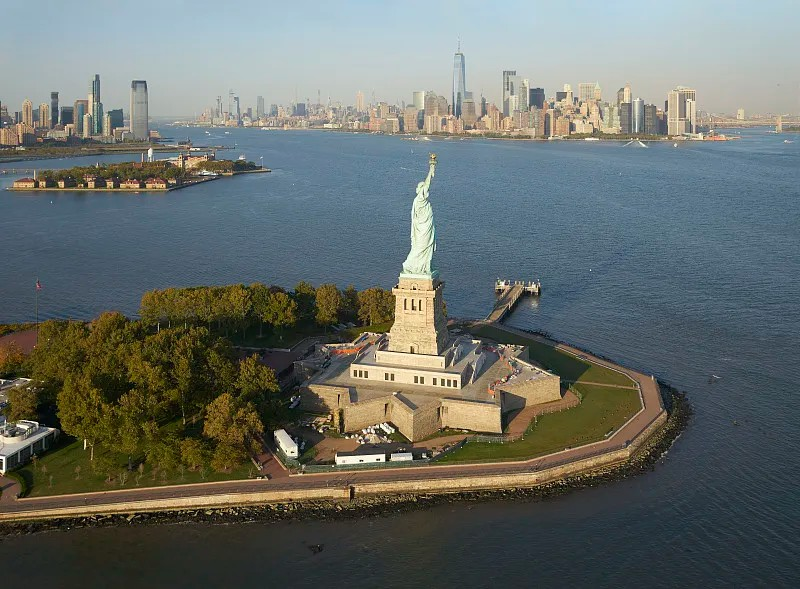SL: (387, 152, 451, 355)
